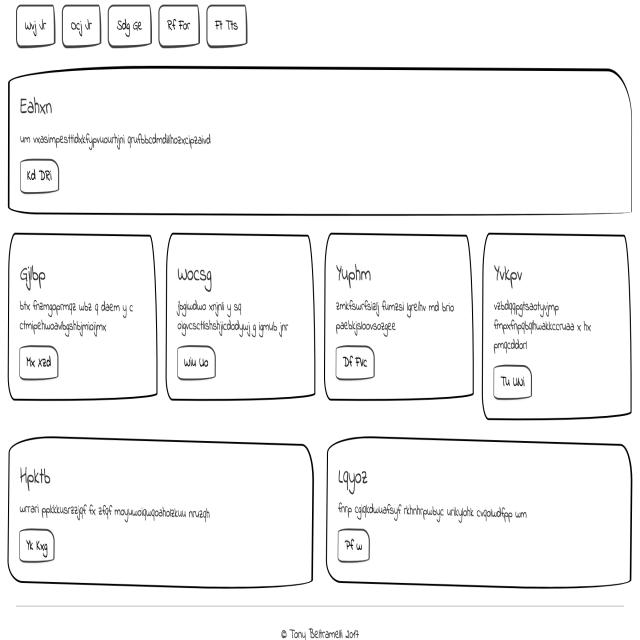Button: (15, 523, 62, 571), (17, 345, 57, 382), (332, 345, 373, 380), (19, 160, 62, 193), (492, 362, 530, 395), (338, 531, 373, 565), (182, 350, 216, 382)
Card: (12, 73, 632, 218), (9, 452, 316, 590), (328, 440, 619, 577), (162, 222, 318, 410), (13, 229, 156, 408), (488, 240, 631, 419), (331, 236, 475, 400)
Footer: (4, 592, 640, 640)
Heading 6: (174, 251, 218, 293), (14, 458, 60, 497), (332, 258, 382, 290), (16, 90, 59, 121), (336, 468, 385, 493), (493, 260, 531, 292), (13, 260, 51, 289)
Navigation Bar: (10, 0, 249, 47)
Paragraph: (496, 292, 597, 352), (17, 299, 142, 340), (336, 297, 460, 338), (171, 302, 296, 341), (16, 130, 223, 151), (332, 495, 528, 517), (19, 499, 238, 516)
